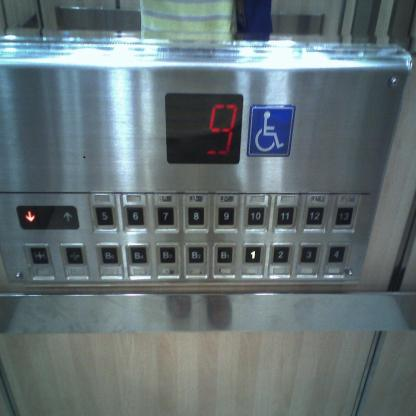1: (244, 245, 261, 264)
10: (246, 205, 265, 226)
11: (275, 205, 294, 225)
12: (305, 206, 324, 225)
13: (333, 206, 354, 225)
2: (272, 245, 289, 263)
3: (300, 245, 318, 263)
4: (327, 244, 346, 263)
5: (94, 206, 114, 226)
6: (126, 205, 144, 225)
7: (156, 205, 174, 225)
8: (186, 205, 204, 226)
9: (217, 205, 235, 226)
B1: (216, 245, 233, 263)
B2: (187, 246, 204, 263)
B3: (158, 246, 176, 263)
B4: (130, 246, 147, 263)
B5: (100, 245, 118, 264)
CH: (248, 104, 295, 156)
close: (64, 245, 84, 264)
led: (165, 93, 243, 164), (15, 205, 79, 230)
open: (29, 246, 48, 265)
